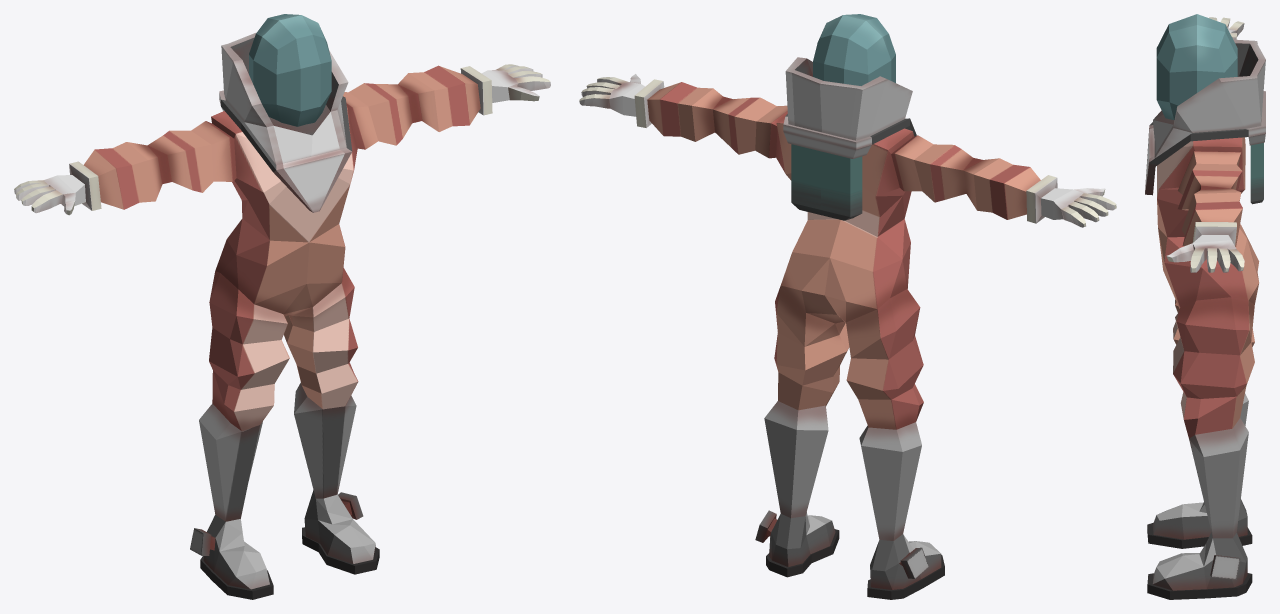
The model's file is BODY.fbx.
The picture shows the model from 3 angles, left to right: view 1: azimuth 30°, elevation 25°; view 2: azimuth 150°, elevation 25°; view 3: azimuth 270°, elevation 25°; orthographic projection.
Visible parts, largest first — view 1: Corpo, Cpact, Vidro; view 2: Corpo, Cpact, Vidro; view 3: Corpo, Cpact, Vidro.
Part boxes in pixels (x1,y1,x2,y2): Corpo: (14, 64, 550, 599); Cpact: (219, 32, 352, 212); Vidro: (249, 14, 331, 126); Corpo: (579, 74, 1116, 599); Cpact: (783, 57, 916, 220); Vidro: (813, 14, 895, 85); Corpo: (1147, 17, 1259, 599); Cpact: (1145, 39, 1265, 204); Vidro: (1156, 14, 1237, 119).
Bounding box in the file's own units: 671 × 676 × 136.
Materials: 3 (3 with a texture image).
